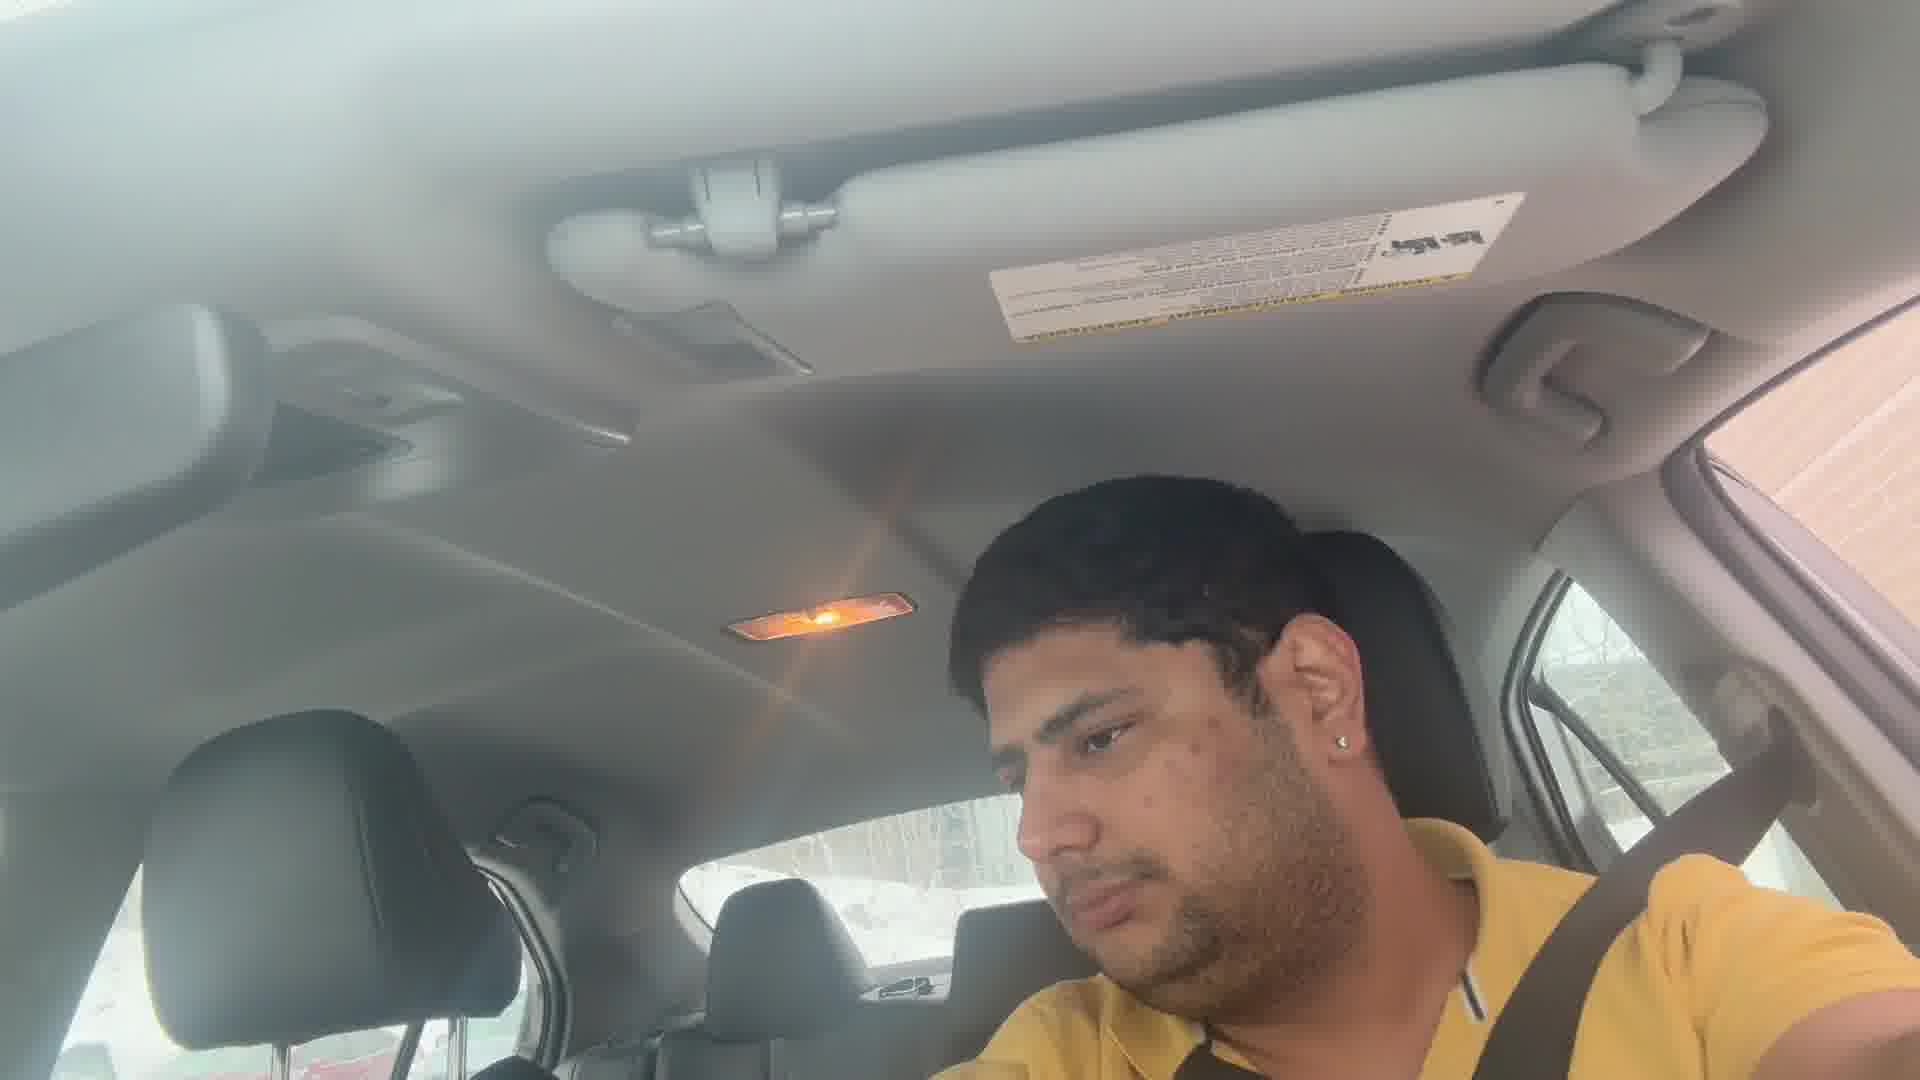inattentive: (90, 477, 1486, 1048)
seatbelt: (1457, 678, 1857, 1080)
